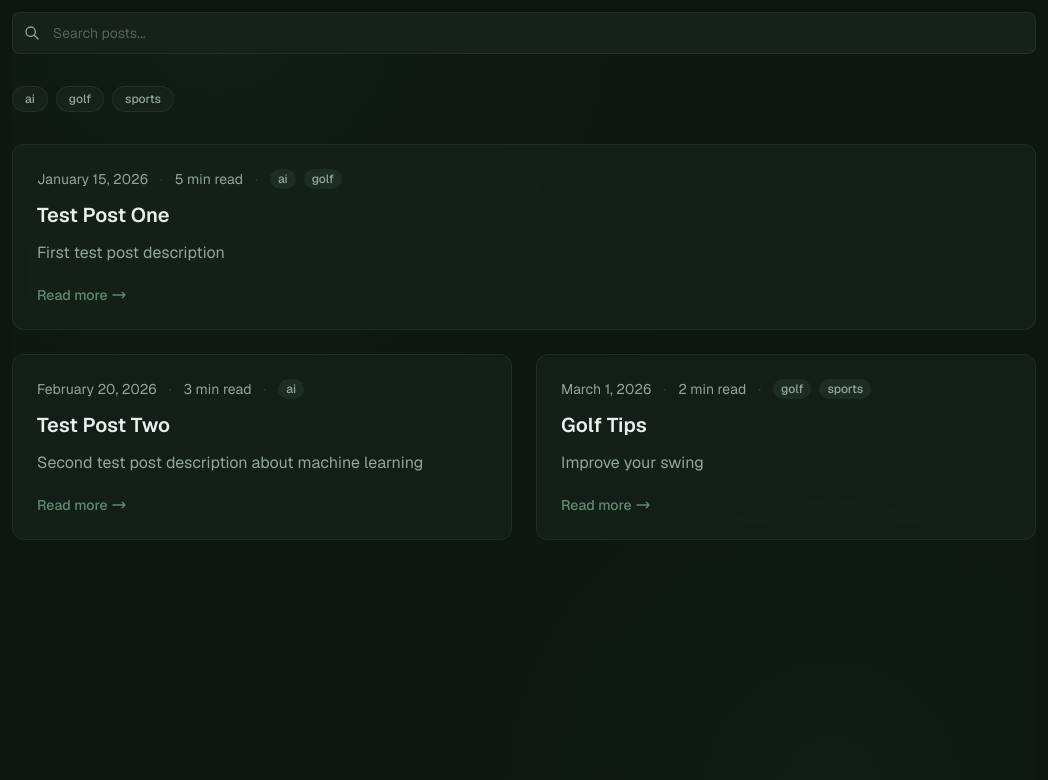
Scenario: blog-post-list-search › filters posts by description search
In the field with placeholder "Search posts...": (524,33) [12,12,1036,54], type "machine learning"
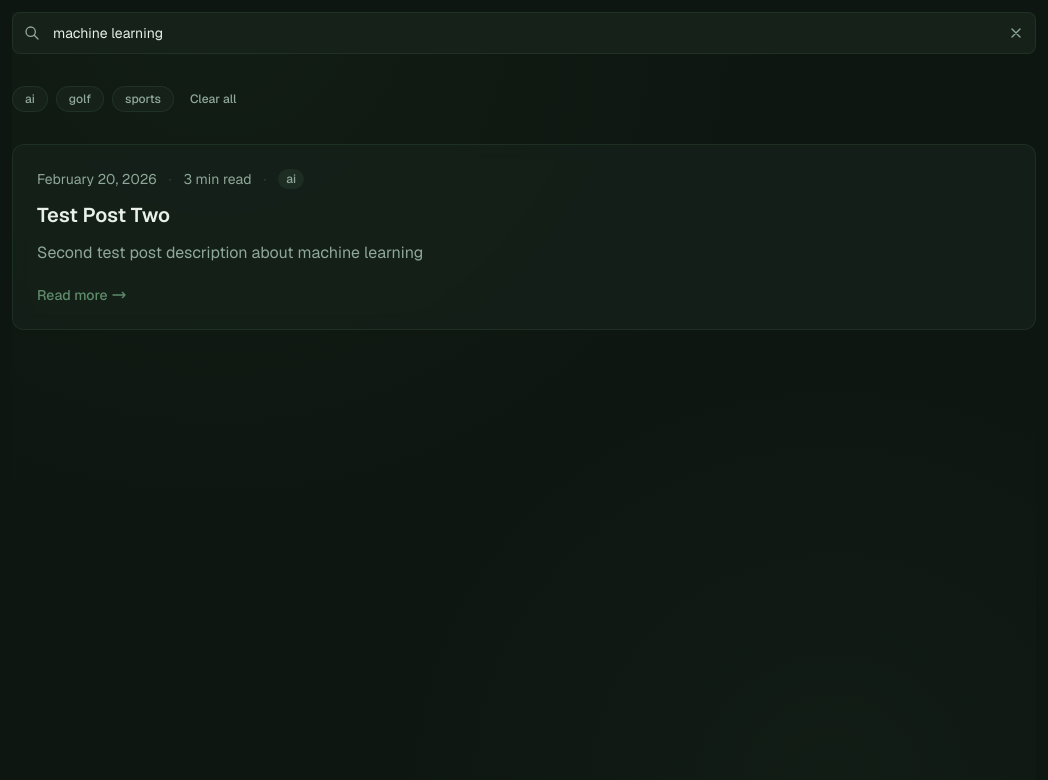
Check: the link "Test Post Two" is shown, box [37,202,170,228]
Check: the link "Test Post One" is gone
Check: the link "Golf Tips" is gone
